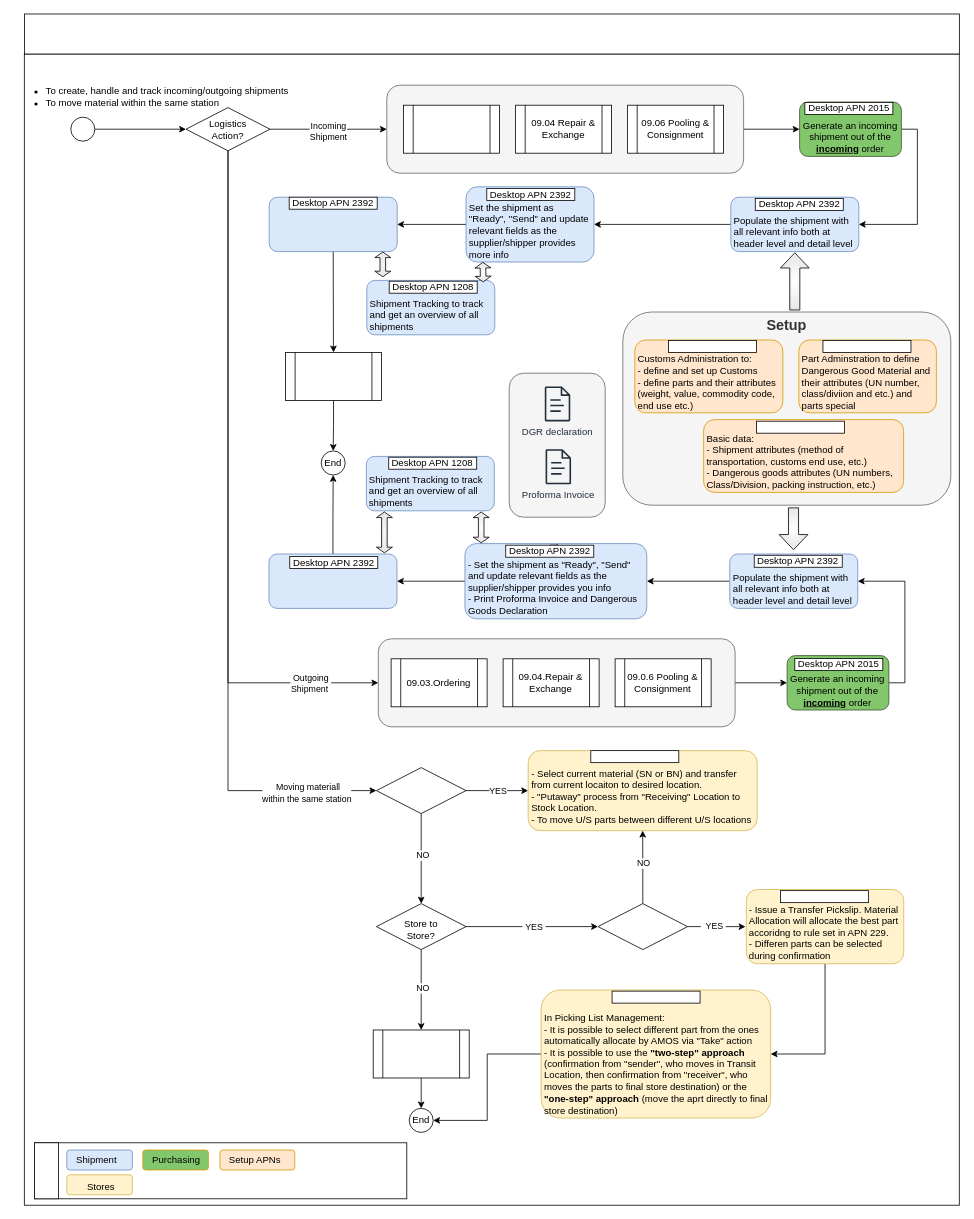
Image size: 974x1219. Some labels were removed from this diagram. Here are the shapes that lost their labels. From the top down, the box of each, then its label:
(24, 13, 959, 54): 10.01 Logistics
(70, 116, 95, 141): Start
(403, 104, 500, 153): 09.03 Ordering
(268, 196, 397, 252): Set the shipment as "arrived", setting actual date/time of arrival
(668, 340, 757, 352): Desktop APN 1867
(822, 340, 911, 352): Desktop APN 59
(285, 352, 382, 400): 10.02 Goods Receiving & Inspection
(756, 420, 845, 433): Desktop APN 18
(268, 553, 397, 608): Set the shipment as "arrived", settig actual date/time or arrival
(590, 750, 679, 763): Desktop APN 293
(376, 767, 466, 814): Location to Location?
(780, 890, 868, 903): Desktop APN 225
(597, 903, 688, 950): Use Trasfer Pickslip?
(611, 990, 700, 1003): Desktop APN 2612
(372, 1029, 469, 1078): 09.07. Outstations & MRO's
(34, 1142, 58, 1199): LEGEND
